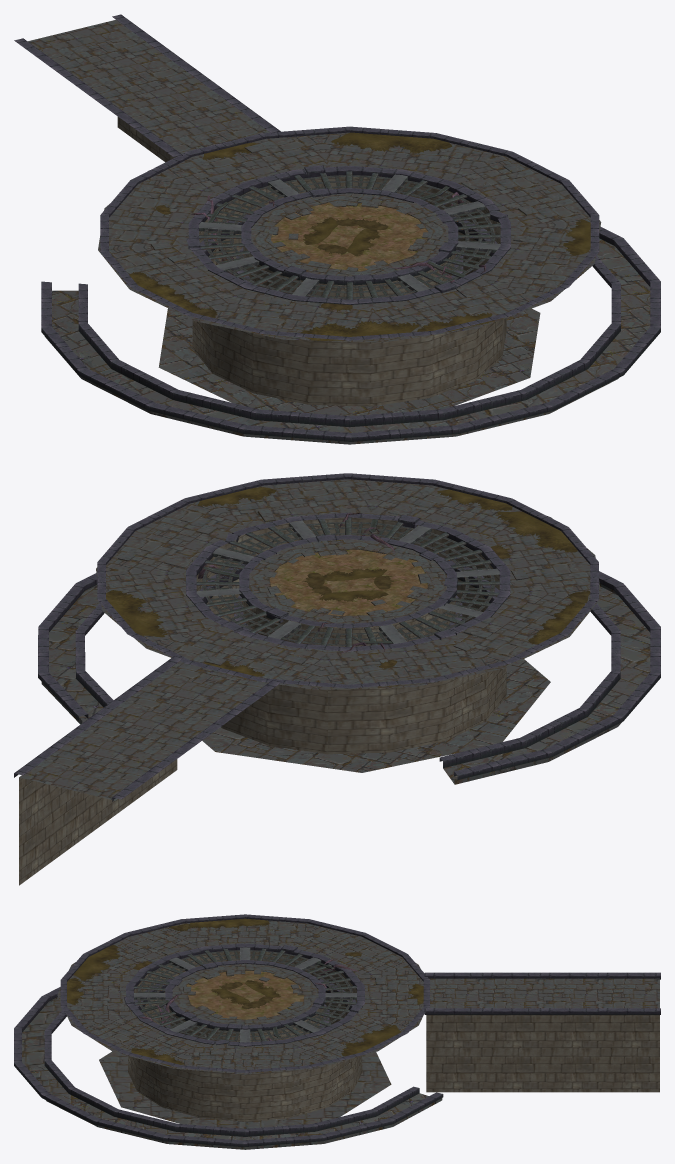
File: terrain_section02_guanka02_c.FBX
3 views of the same model, one above another, from view 1: azimuth 30°, elevation 25°; view 2: azimuth 150°, elevation 25°; view 3: azimuth 270°, elevation 25° (orthographic). The views are drawn at different scales.
Parts seen in each view (by area): view 1: terrain_section02_guanka02_c; view 2: terrain_section02_guanka02_c; view 3: terrain_section02_guanka02_c.
Boxes of the visible parts, bbox=[...] form: terrain_section02_guanka02_c: bbox=[14, 14, 660, 444]; terrain_section02_guanka02_c: bbox=[14, 473, 660, 885]; terrain_section02_guanka02_c: bbox=[14, 914, 660, 1149].
Bounding box in the file's own units: 63.23 × 12.66 × 87.82.
